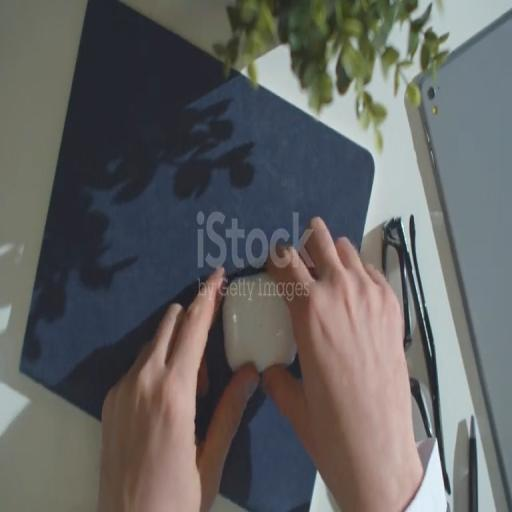earphone: (220, 267, 304, 382)
